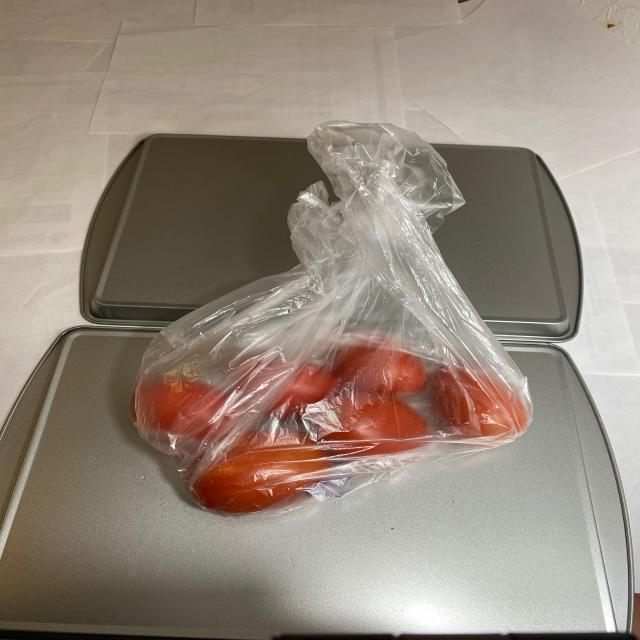tomato: (125, 345, 536, 515)
